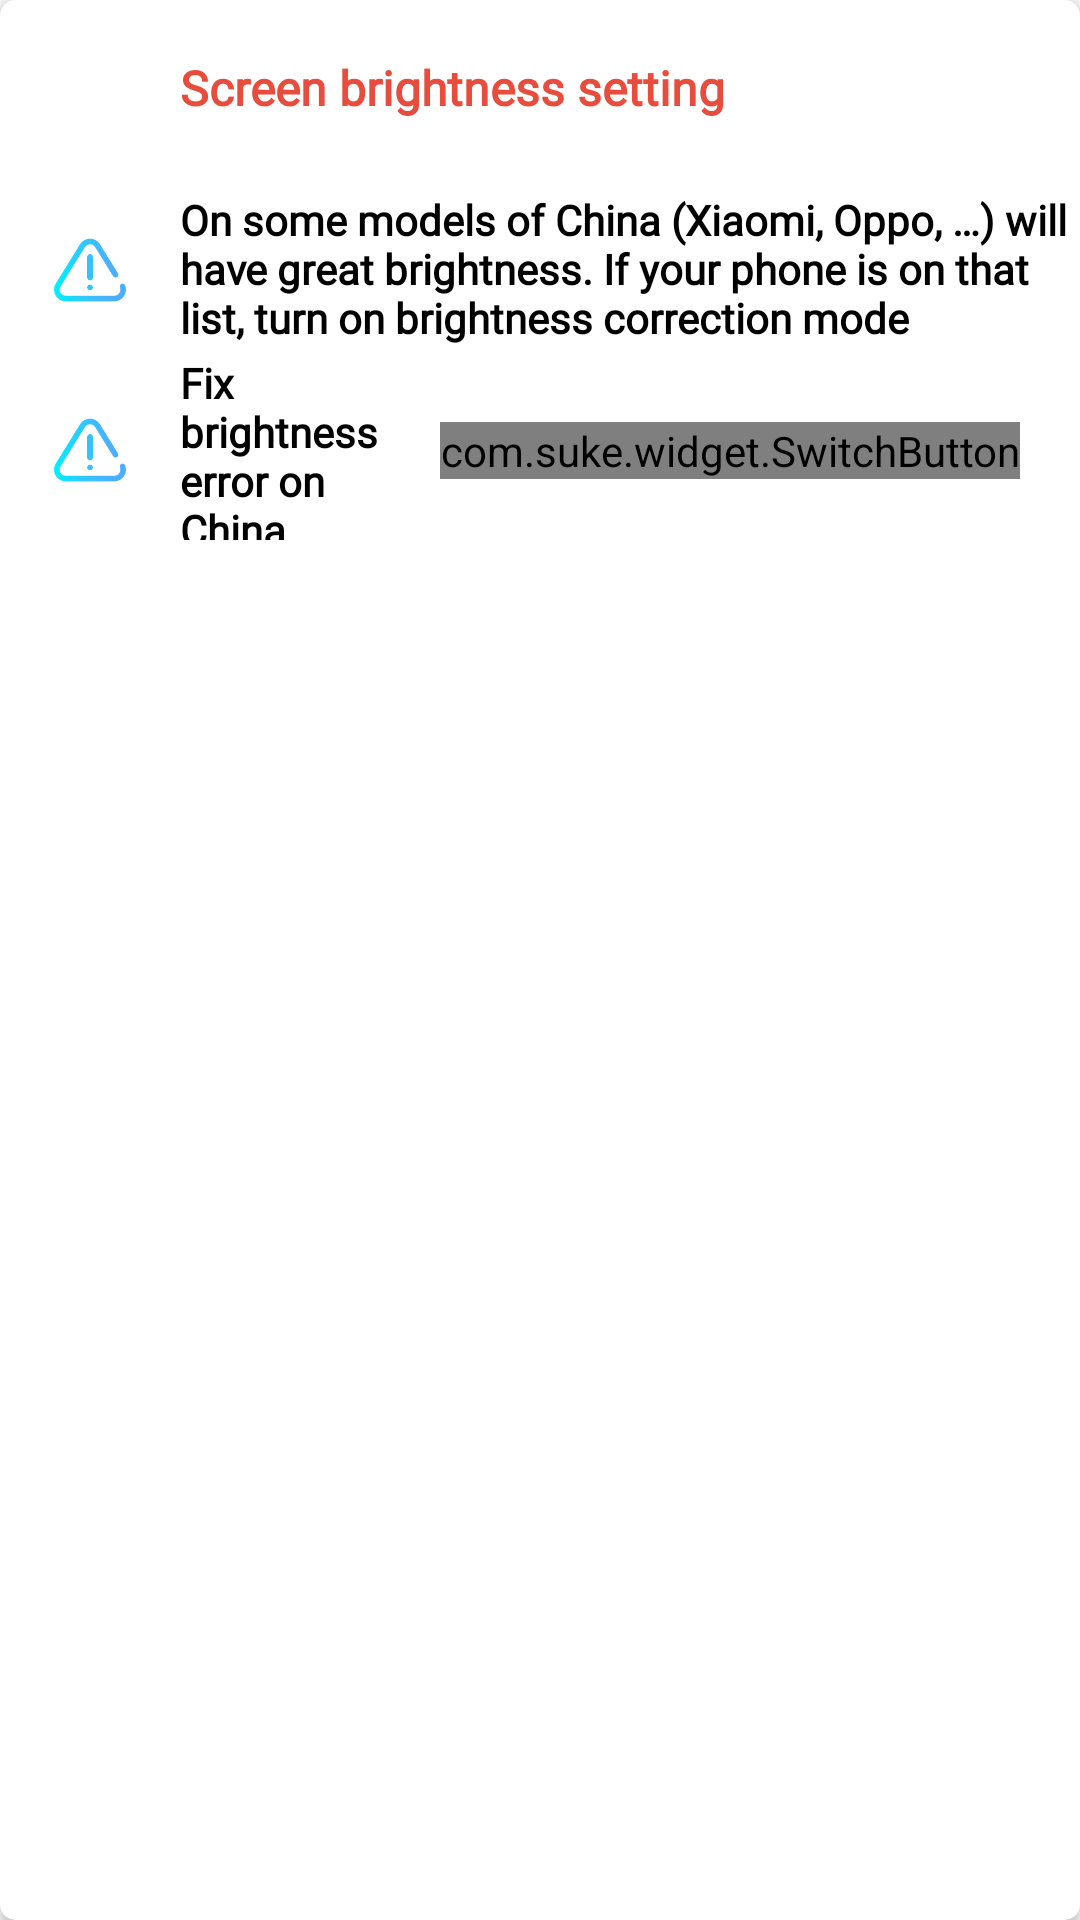

Icon bounding boxes for this 1080px x 1920px phone screenshot, format (x1, y1, x2, y2):
all warning: (54, 238, 126, 302), (54, 418, 126, 482)
